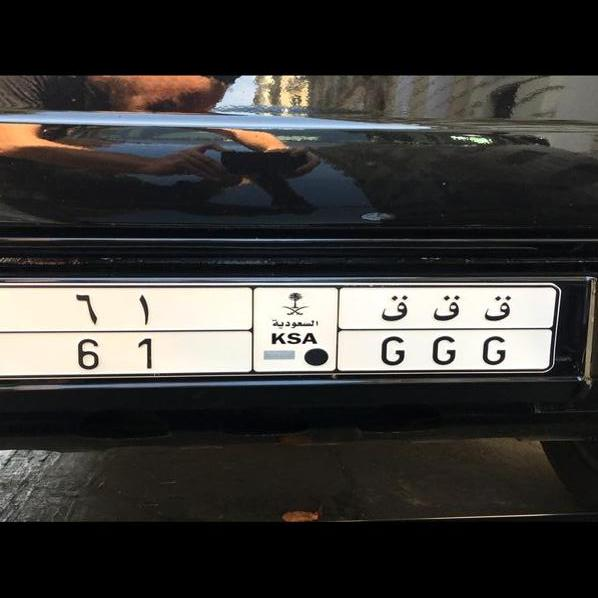numberplate: (57, 287, 537, 372)
